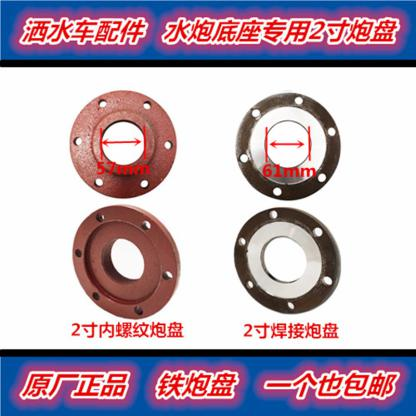FOD: (71, 201, 185, 323), (67, 88, 180, 200)
